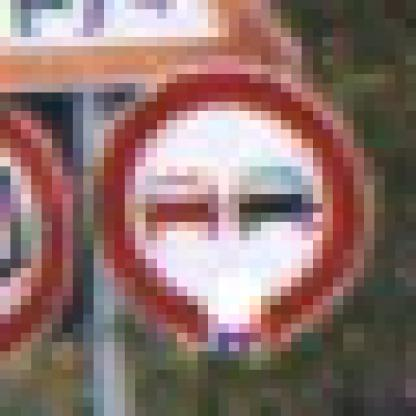No Overtaking: (63, 57, 365, 362)
